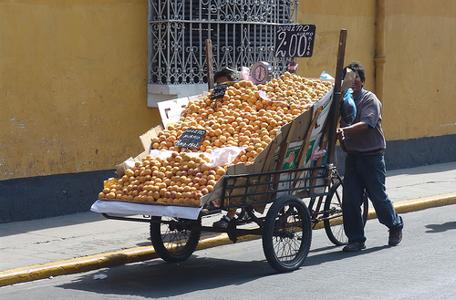person: (332, 62, 406, 256)
